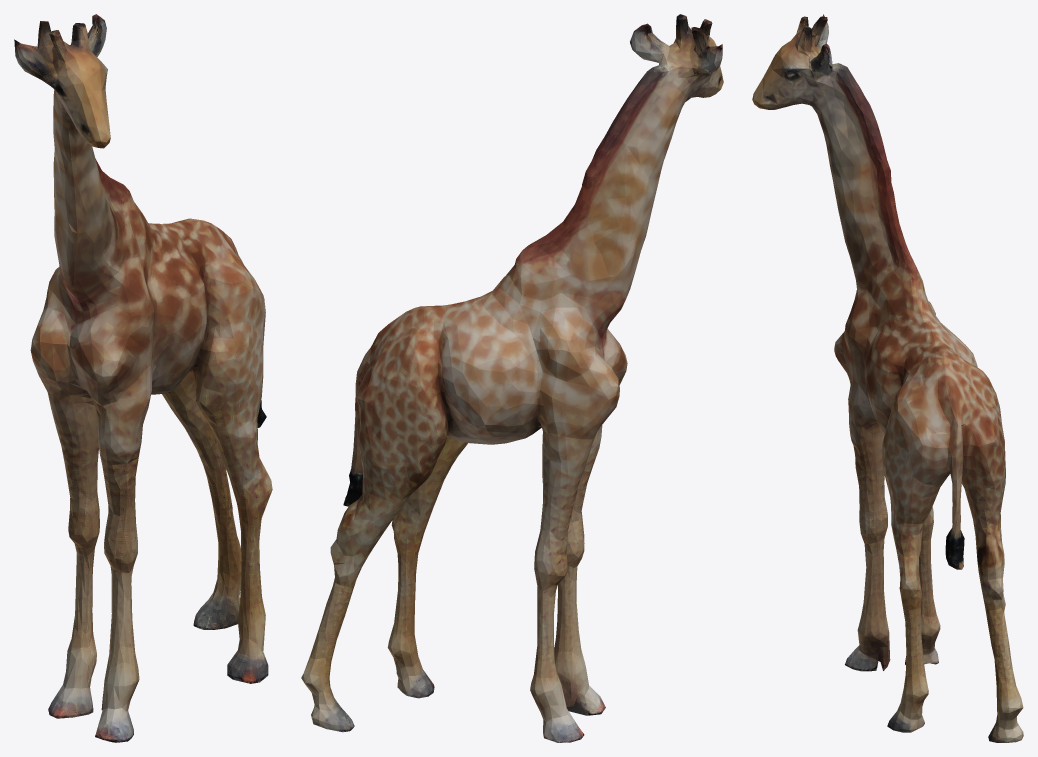
3 views of the same model, side by side, from view 1: azimuth 30°, elevation 25°; view 2: azimuth 150°, elevation 25°; view 3: azimuth 270°, elevation 25° (orthographic). The views are drawn at different scales.
Parts seen in each view (by area): view 1: world; view 2: world; view 3: world.
Part boxes in pixels (<box>): world: <box>14,14,272,742</box>; world: <box>301,14,723,742</box>; world: <box>752,14,1023,742</box>.
Bounding box in the file's own units: 0.4782 × 0.9996 × 0.4031.
Materials: 1 (1 with a texture image).
